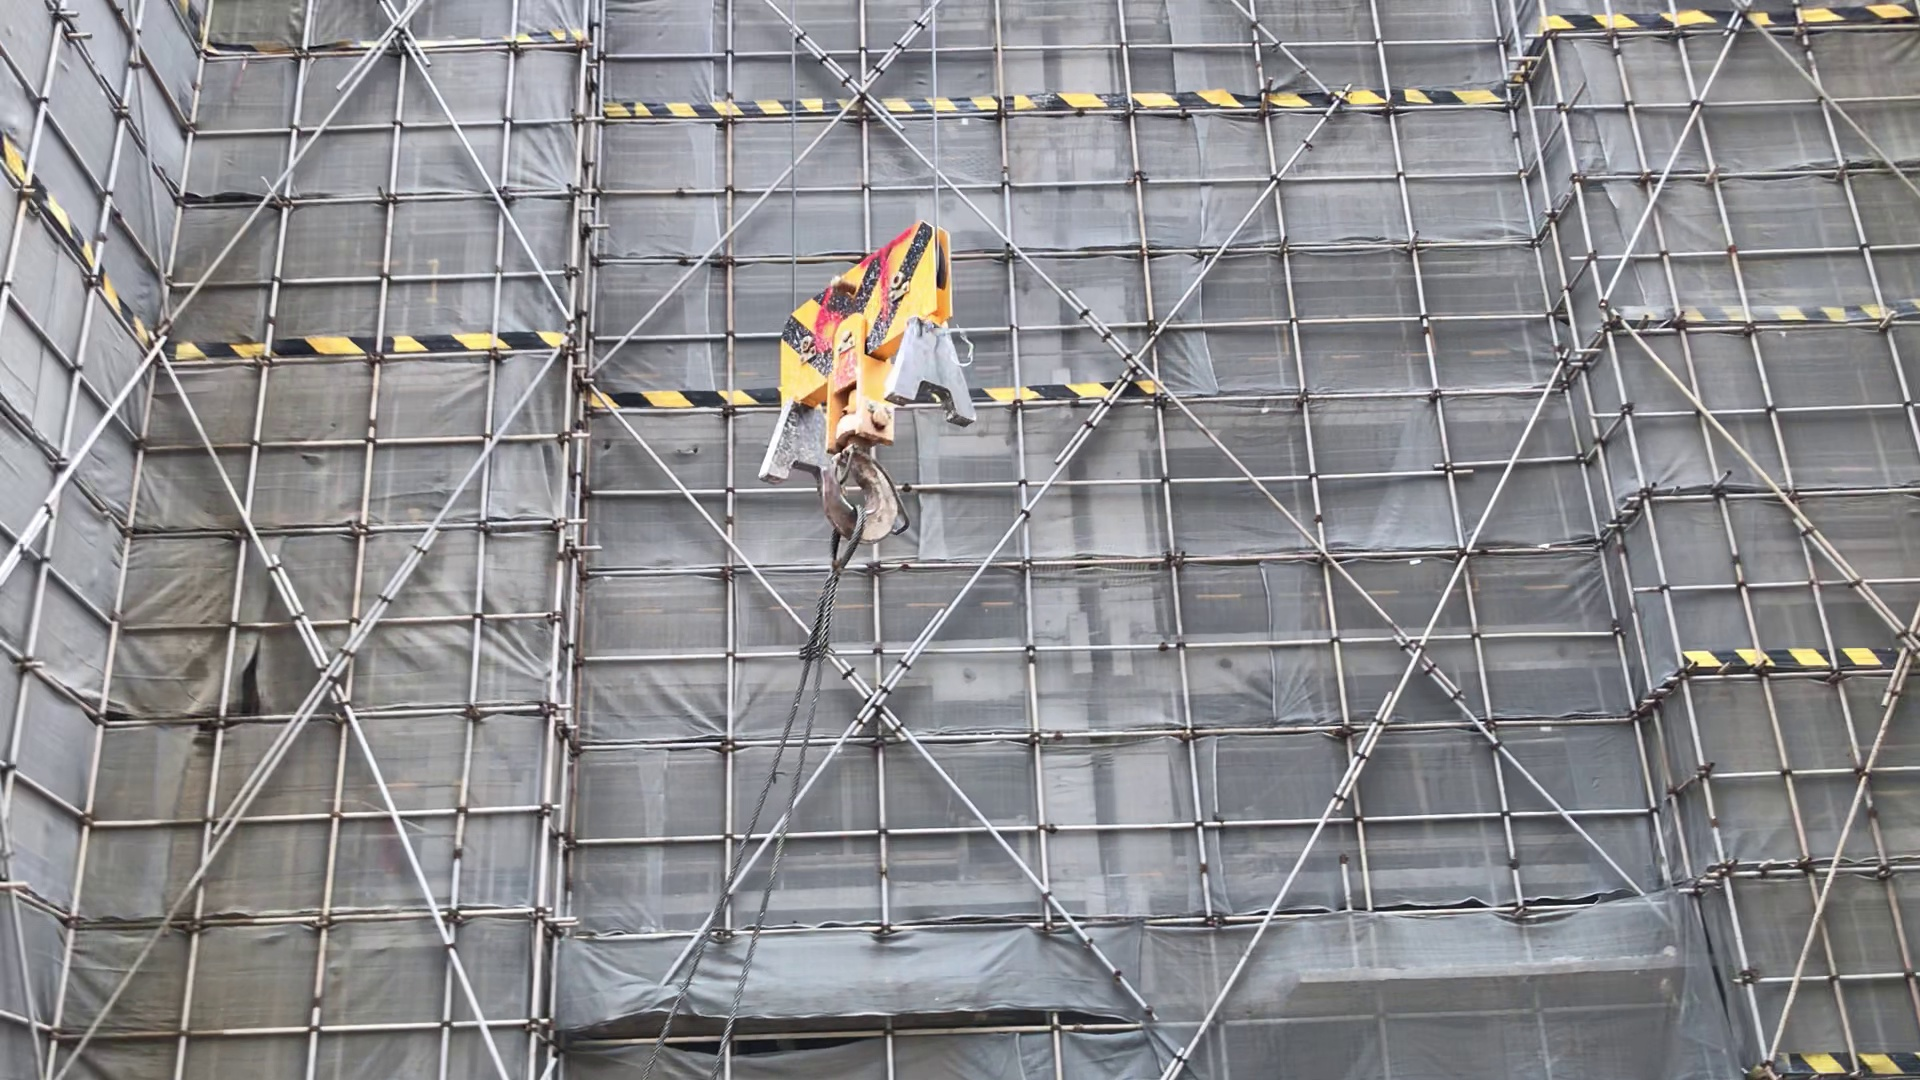hook: (766, 224, 984, 546)
